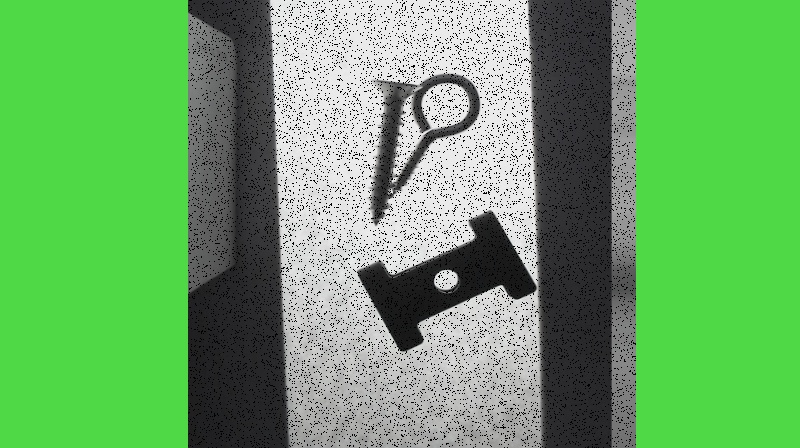O001: (391, 73, 480, 196)
O002: (355, 209, 534, 351)
S001: (368, 78, 421, 226)
